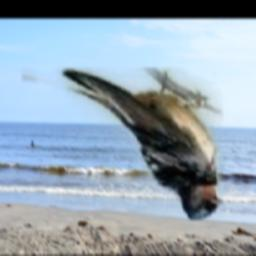Swallow: (23, 68, 224, 221)
